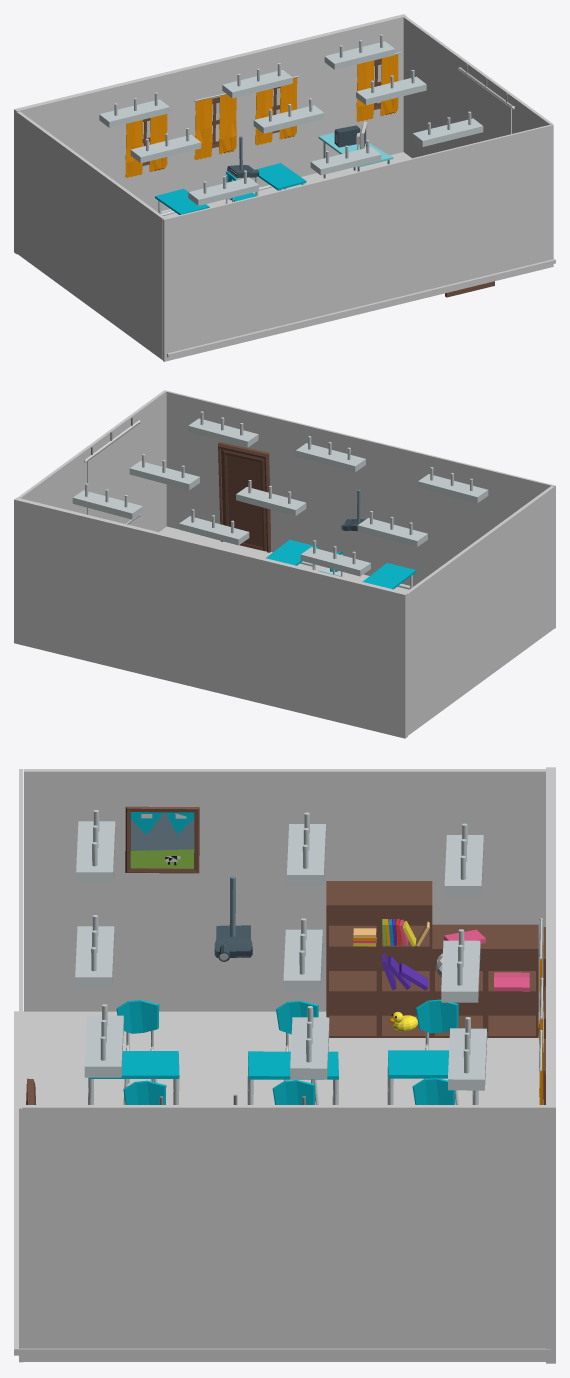
The model's file is classroom.glb.
The picture shows the model from 3 angles, top to bottom: view 1: azimuth 30°, elevation 25°; view 2: azimuth 150°, elevation 25°; view 3: azimuth 270°, elevation 25°; orthographic projection. The views are drawn at different scales.
Visible parts, largest first — view 1: group1708628055, group1606686412, group363772429, group421461732, group1043174289, group596629695, group1941186110, group800968703, group2035007592, group825733962, group856701084, group300508059 (+12 smaller); view 2: group1606686412, group1708628055, group363772429, group421461732, group729752686, group596629695, group1043174289, group1254331562, group300508059, group629326721, group812101420, group1941934137 (+6 smaller); view 3: group421461732, group363772429, group1043174289, group1192281077, group1606686412, group711215999, group1150992297, group1586682540, group1057097951, group1708628055, group629326721, group2020093838 (+11 smaller).
Boxes of the visible parts, box(x1,y1,x2,y2) form: group1708628055: box(163, 124, 553, 361); group1606686412: box(14, 14, 406, 254); group363772429: box(16, 111, 165, 360); group421461732: box(403, 16, 552, 158); group1043174289: box(161, 152, 555, 357); group596629695: box(458, 64, 514, 146); group1941186110: box(194, 93, 236, 159); group800968703: box(356, 52, 400, 121); group2035007592: box(125, 114, 167, 177); group825733962: box(255, 75, 299, 145); group856701084: box(130, 128, 201, 163); group300508059: box(412, 111, 483, 146); group1606686412: box(14, 497, 407, 738); group1708628055: box(165, 390, 555, 628); group363772429: box(406, 486, 554, 735); group421461732: box(18, 390, 166, 531); group729752686: box(218, 442, 270, 552); group596629695: box(84, 417, 141, 524); group1043174289: box(159, 526, 410, 592); group1254331562: box(129, 454, 199, 490); group300508059: box(188, 411, 258, 447); group629326721: box(295, 436, 365, 472); group812101420: box(300, 540, 370, 576); group1941934137: box(72, 483, 142, 519); group421461732: box(22, 1105, 545, 1361); group363772429: box(24, 769, 545, 1011); group1043174289: box(14, 1011, 550, 1355); group1192281077: box(326, 881, 538, 1037); group1606686412: box(546, 767, 555, 1363); group711215999: box(125, 806, 199, 873); group1150992297: box(387, 999, 478, 1104); group1586682540: box(88, 1000, 179, 1104); group1057097951: box(247, 1000, 338, 1104); group1708628055: box(19, 769, 23, 1362); group629326721: box(75, 915, 114, 988); group2020093838: box(441, 929, 480, 1002).
Size of the model in its own units: 9.56 by 3.75 by 6.43.
